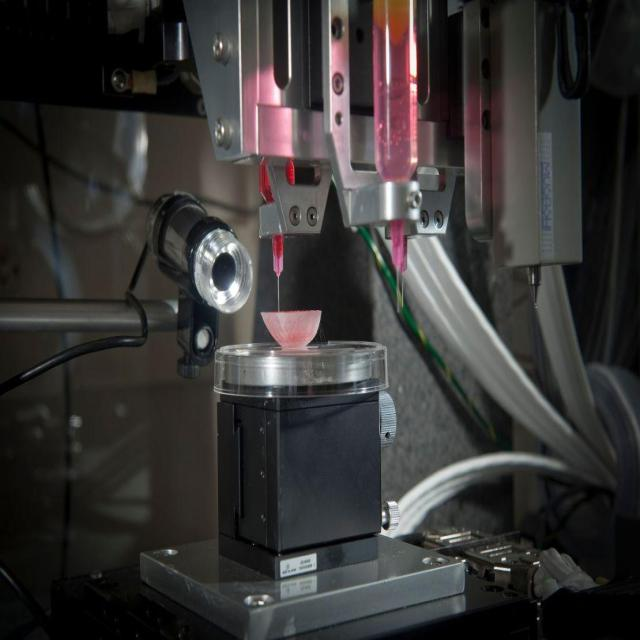Without deffect: (255, 241, 330, 364)
